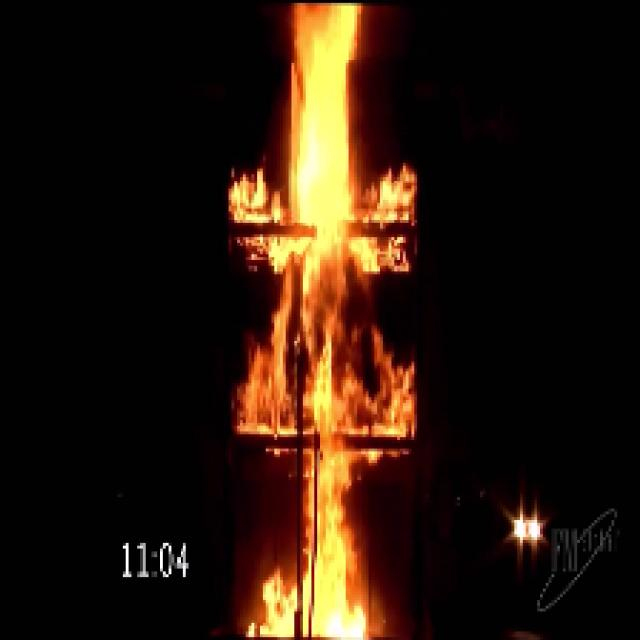fire: (272, 4, 386, 636)
